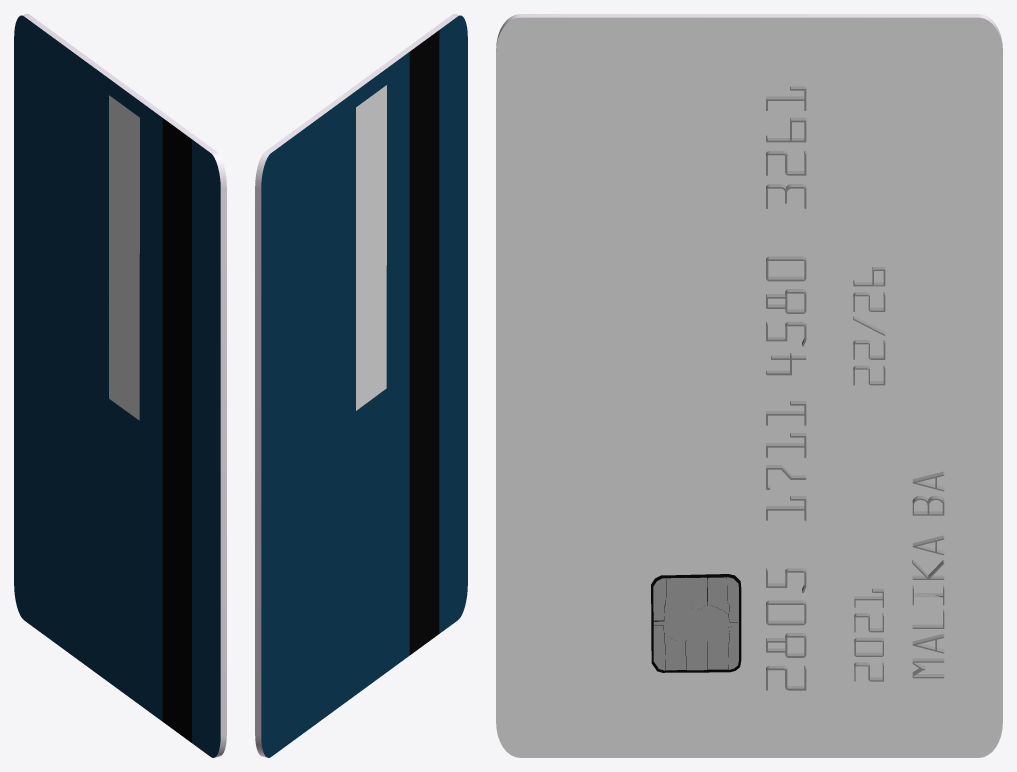
The model's file is cartao.glb.
3 views of the same model, side by side, from view 1: azimuth 30°, elevation 25°; view 2: azimuth 150°, elevation 25°; view 3: azimuth 270°, elevation 25° (orthographic). The views are drawn at different scales.
Visible parts, largest first — view 1: id; view 2: id; view 3: id.
Boxes of the visible parts, x1=… form: id: x1=14, y1=14, x2=226, y2=757; id: x1=255, y1=14, x2=467, y2=757; id: x1=496, y1=14, x2=1002, y2=757.
Size of the model in its own units: 0.2084 by 10.94 by 6.79.
